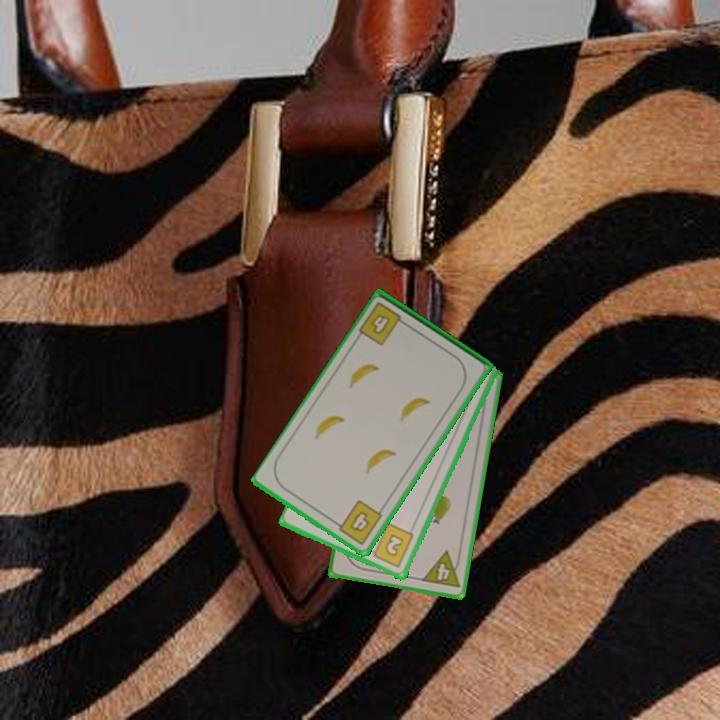2b: (365, 520, 417, 571)
4b: (331, 496, 385, 548), (356, 298, 411, 349)
4p: (418, 547, 464, 591)
